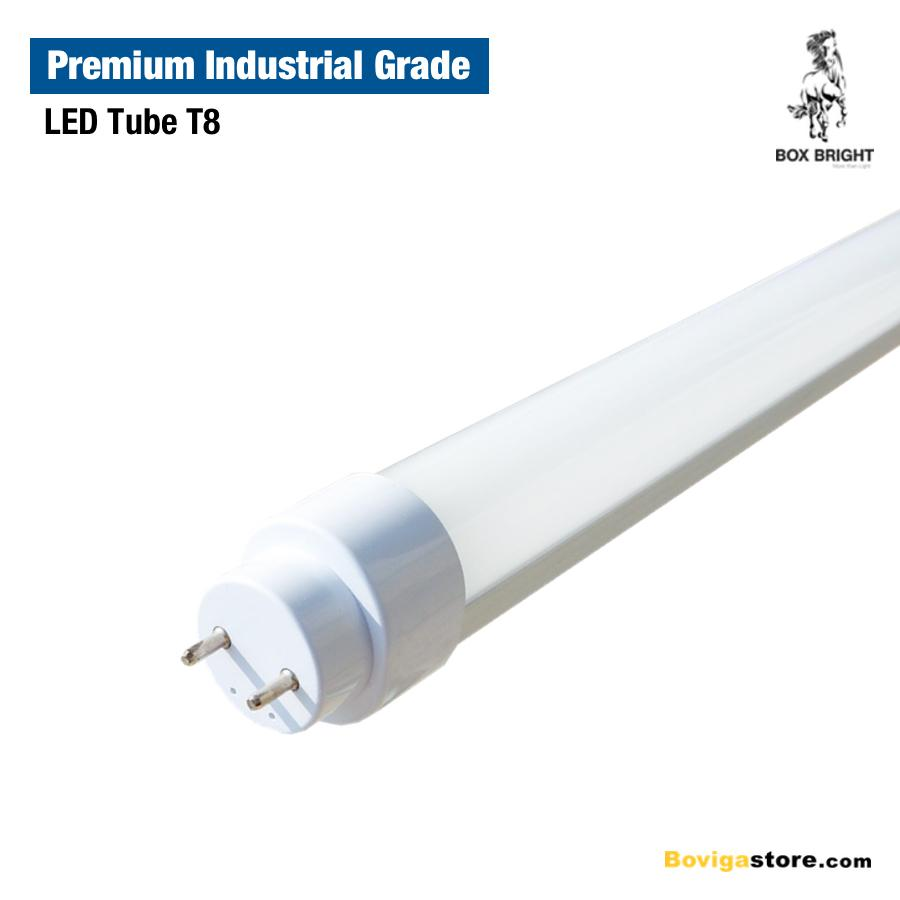Light_bulb: (149, 191, 900, 753)
